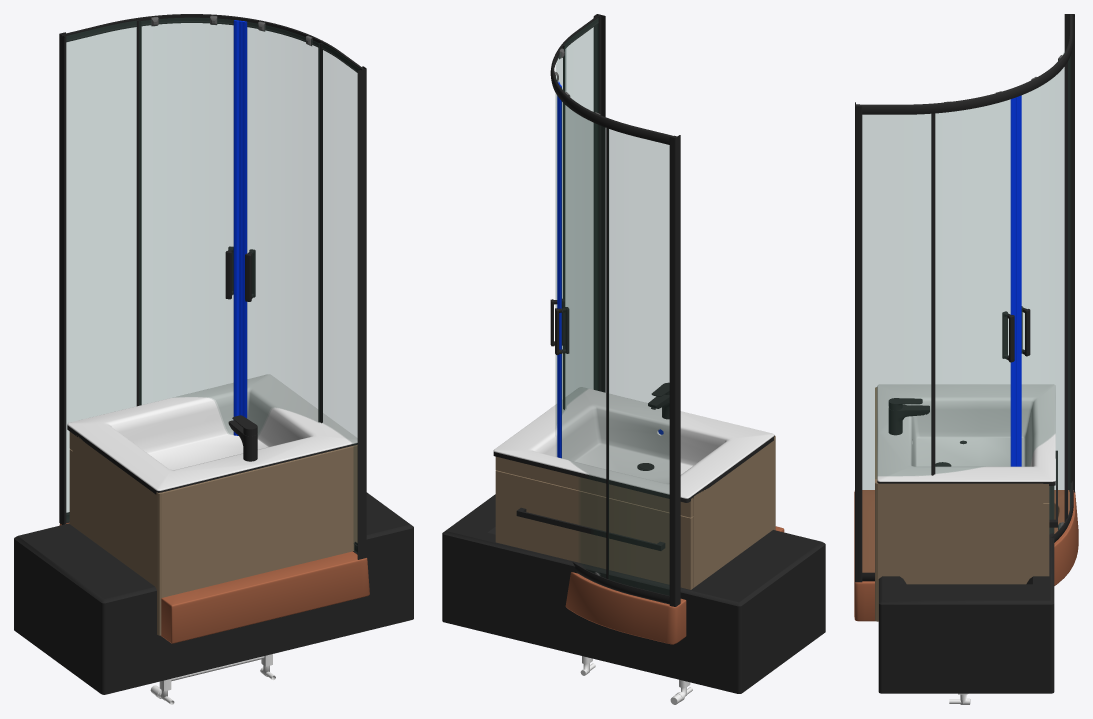
File: KUP.FBX
3 renders of one model, left to right at view 1: azimuth 30°, elevation 25°; view 2: azimuth 150°, elevation 25°; view 3: azimuth 270°, elevation 25°, orthographic. The views are drawn at different scales.
Parts seen in each view (by area): view 1: sprchovaci_kut_mickiewiczova, GDLM1_CG, skrinka_pod_umyvadlo_mickiewiczova, Umyvadlo_mickiewiczova, Cylinder003; view 2: sprchovaci_kut_mickiewiczova, GDLM1_CG, skrinka_pod_umyvadlo_mickiewiczova, Umyvadlo_mickiewiczova; view 3: sprchovaci_kut_mickiewiczova, GDLM1_CG, skrinka_pod_umyvadlo_mickiewiczova, Umyvadlo_mickiewiczova.
Part boxes in pixels (box(x1,y1,x2,y2)): sprchovaci_kut_mickiewiczova: box(59, 14, 369, 643); GDLM1_CG: box(14, 492, 413, 694); skrinka_pod_umyvadlo_mickiewiczova: box(69, 431, 357, 635); Umyvadlo_mickiewiczova: box(67, 374, 357, 494); Cylinder003: box(150, 654, 275, 704); sprchovaci_kut_mickiewiczova: box(550, 14, 784, 644); GDLM1_CG: box(442, 494, 825, 693); skrinka_pod_umyvadlo_mickiewiczova: box(495, 436, 775, 589); Umyvadlo_mickiewiczova: box(493, 382, 774, 502); sprchovaci_kut_mickiewiczova: box(854, 14, 1078, 621); GDLM1_CG: box(878, 486, 1054, 693); skrinka_pod_umyvadlo_mickiewiczova: box(875, 387, 1057, 621); Umyvadlo_mickiewiczova: box(877, 384, 1055, 485).
Bounding box in the file's own units: 127 × 248 × 81.15.
